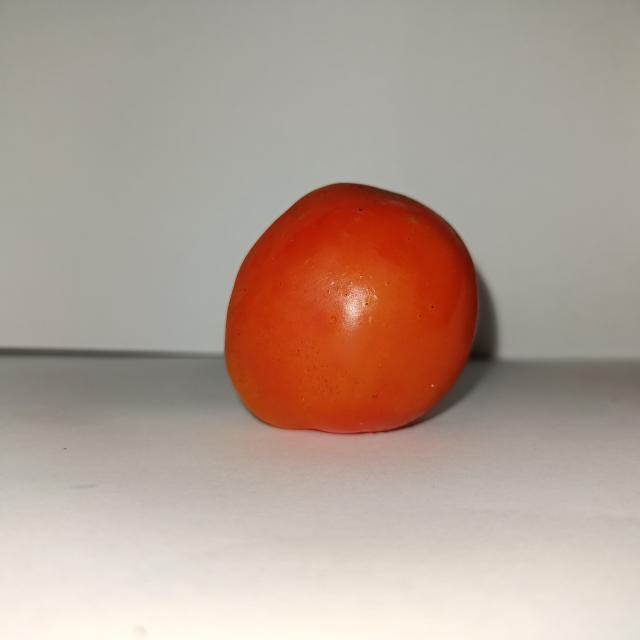Red: (223, 180, 479, 435)
